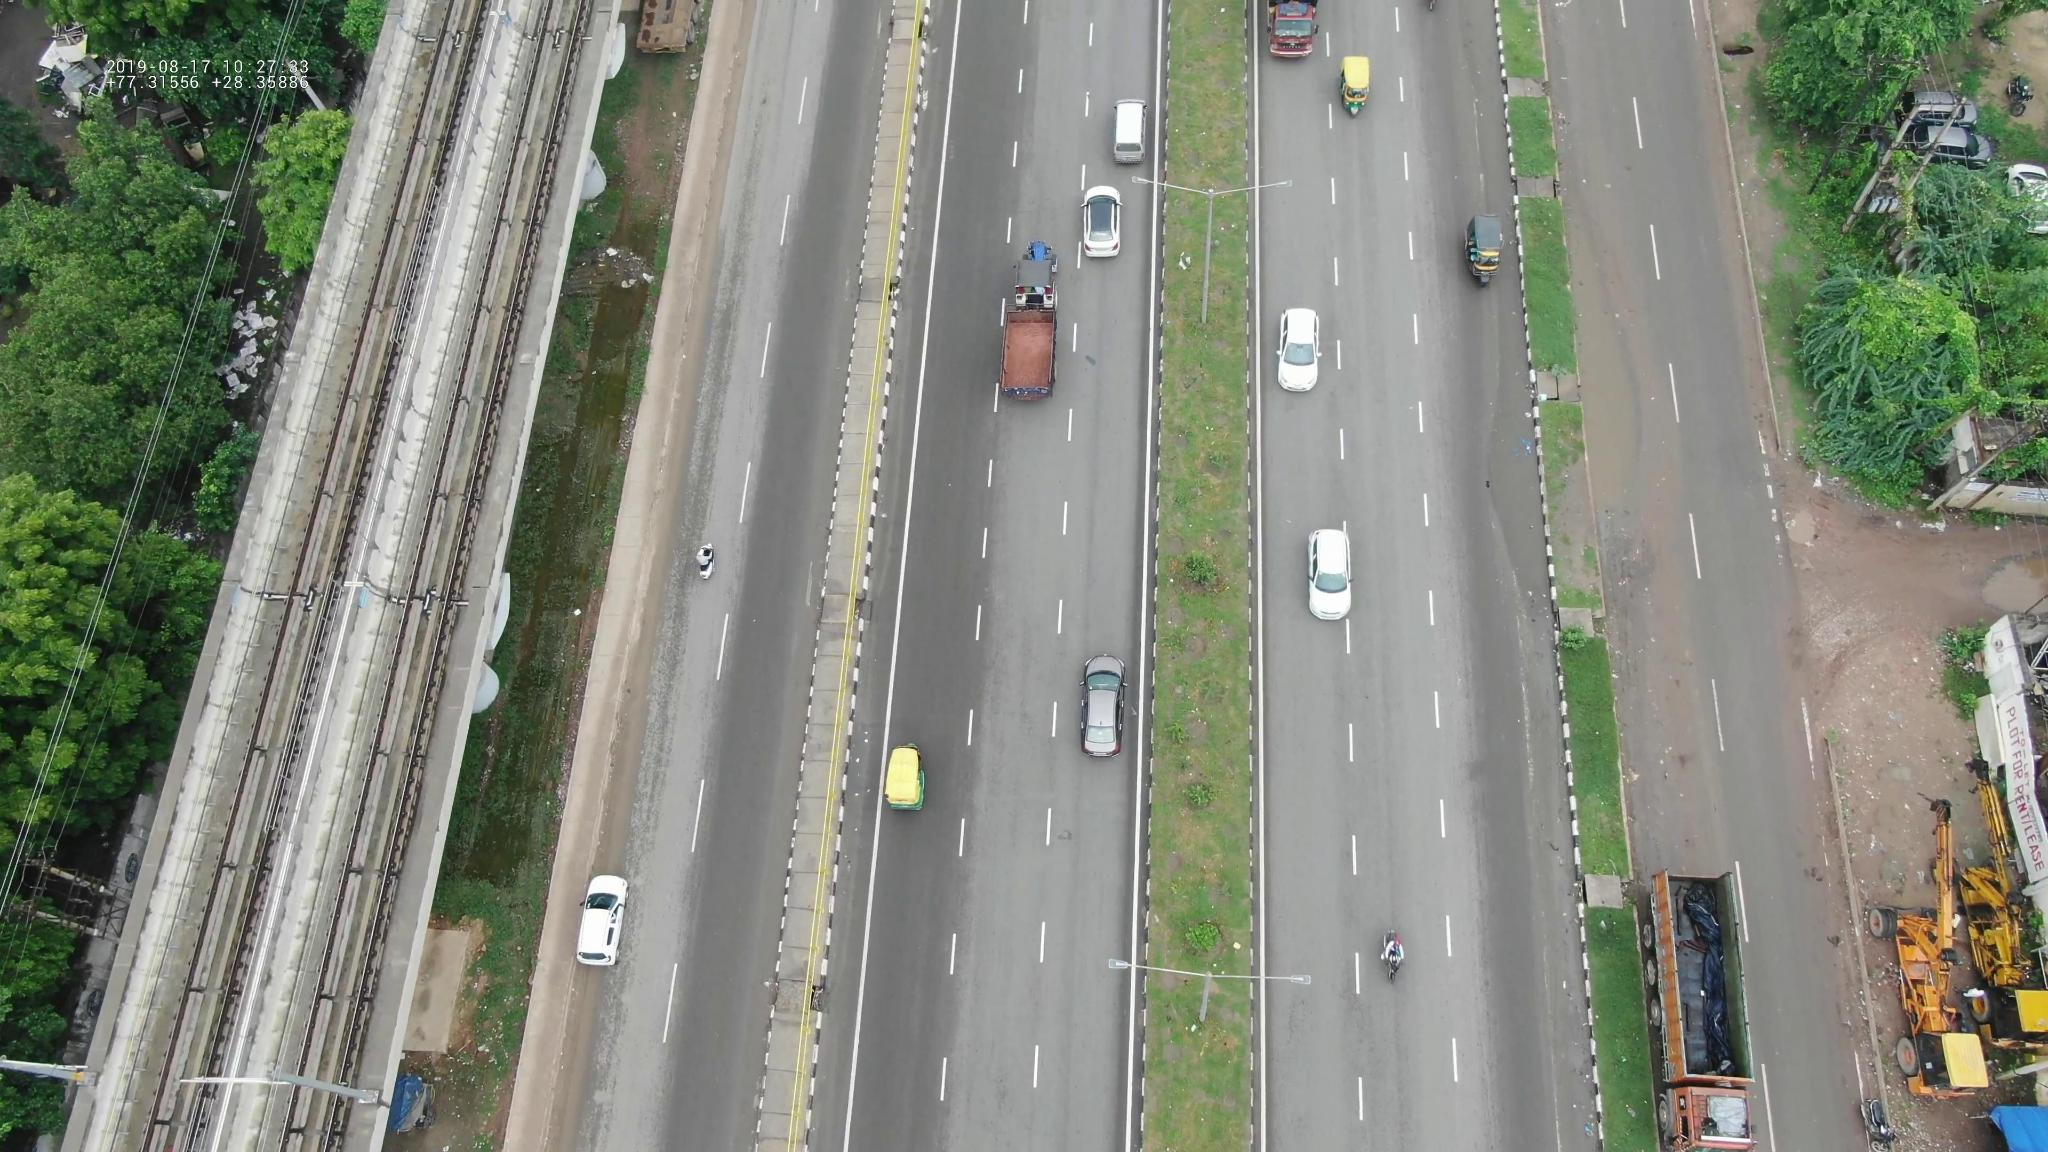Muddy_road: (1604, 549, 1709, 851)
Waterlogging: (1468, 279, 1557, 610), (1559, 211, 1649, 509)
